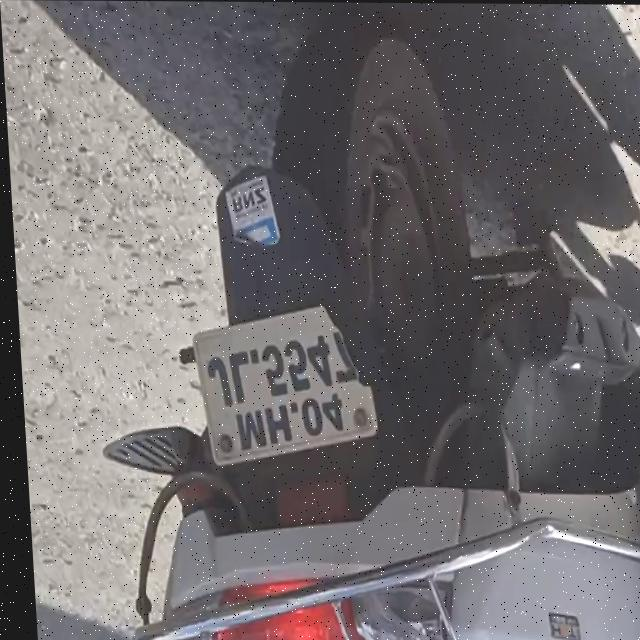plate: (186, 278, 374, 470)
